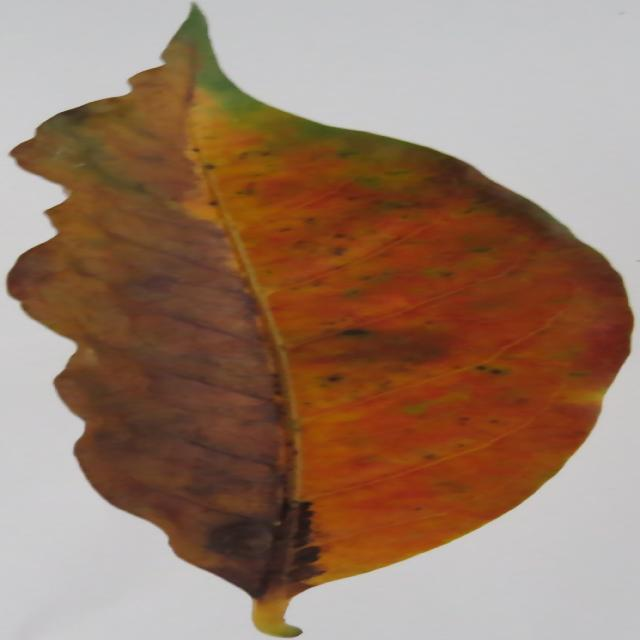DeficienciaNutricional-Fosforo: (10, 8, 630, 636)
